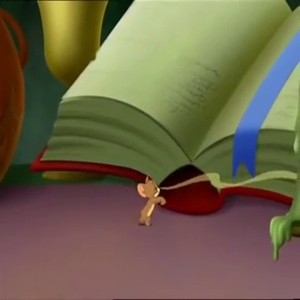Jerry: (130, 175, 165, 228)
